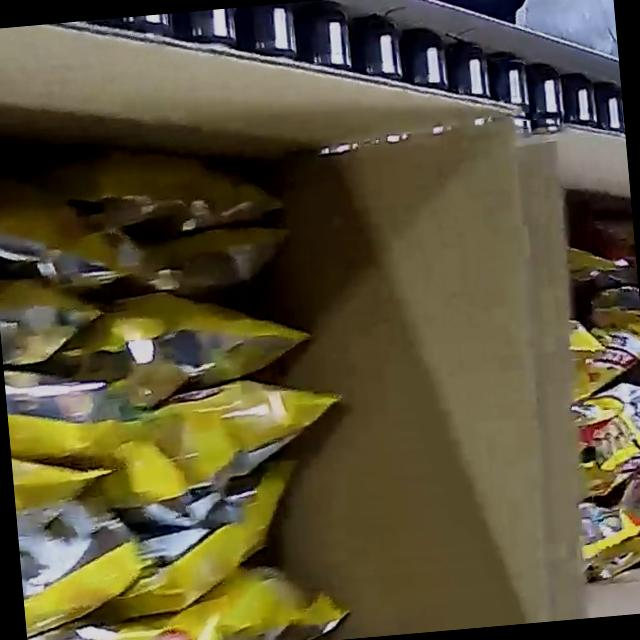salted: (0, 90, 365, 640), (524, 183, 640, 620)
